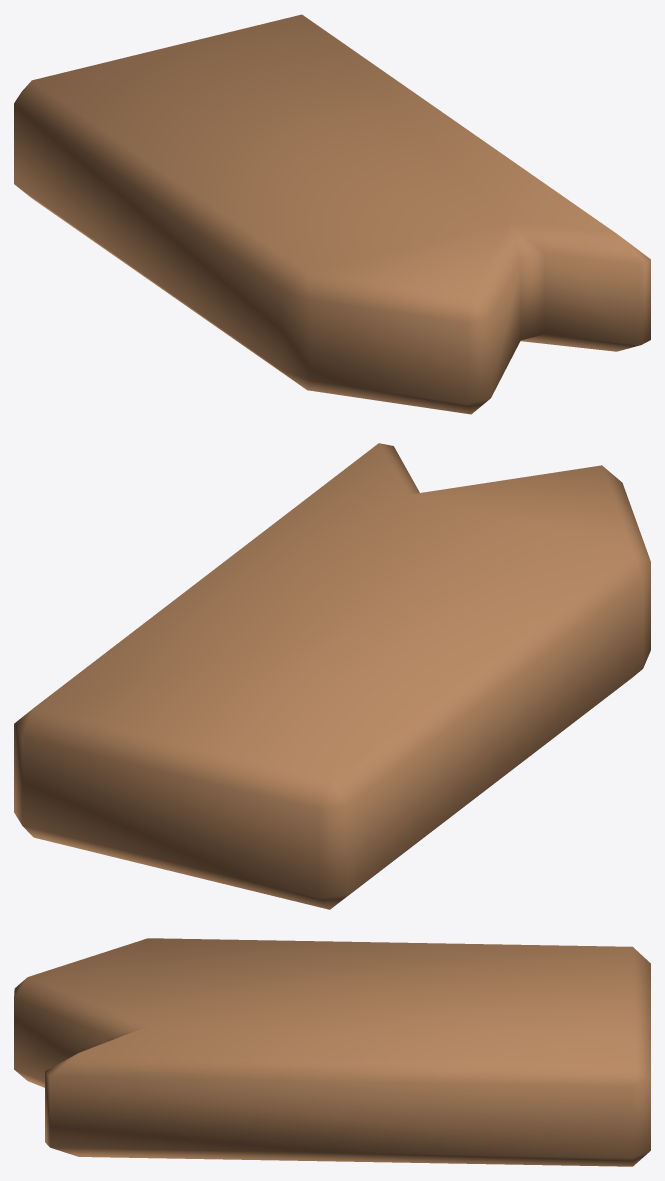
The model's file is SM_BrokenPlank_2.fbx.
3 renders of one model, top to bottom at view 1: azimuth 30°, elevation 25°; view 2: azimuth 150°, elevation 25°; view 3: azimuth 270°, elevation 25°, orthographic. The views are drawn at different scales.
Visible parts, largest first — view 1: SM_BrokenPlank_2; view 2: SM_BrokenPlank_2; view 3: SM_BrokenPlank_2.
Part boxes in pixels (x1,y1,x2,y2): SM_BrokenPlank_2: [14, 14, 650, 414]; SM_BrokenPlank_2: [14, 443, 650, 909]; SM_BrokenPlank_2: [14, 938, 650, 1166].
Size of the model in its own units: 0.6838 by 0.2783 by 1.4.
